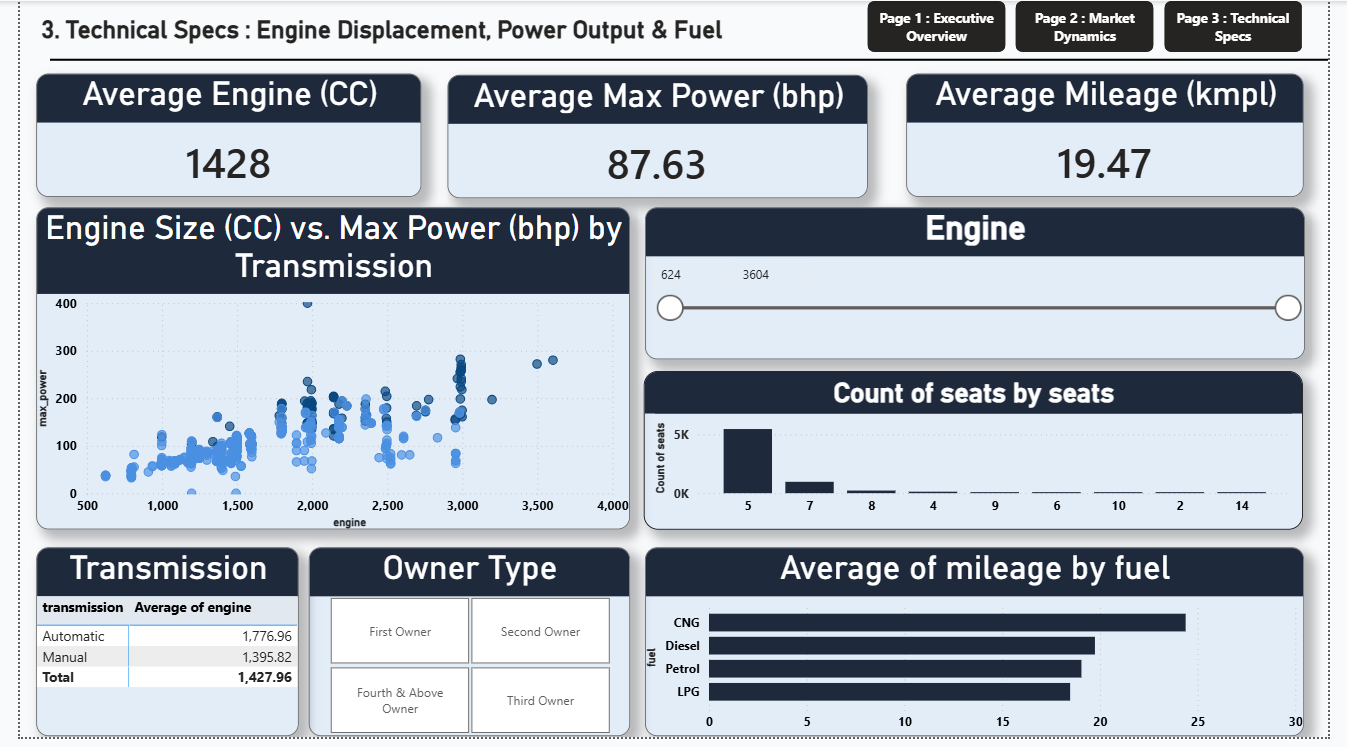

This screenshot's page, from the dashboard's own definition file:
{"tool":"powerbi","page":{"name":"Page 3 : Technical Specs","canvas":[1280,720],"ordinal":2},"visuals":[{"type":"cardVisual","title":"Average Engine (CC)","fields":{"Data":["_All Measures.Average Engine CC"]},"box":[15.9,70.9,376.6,121.1],"z":3000},{"type":"cardVisual","title":"Average Mileage (kmpl)","fields":{"Data":["_All Measures.Average Mileage"]},"box":[867,70.9,388.9,121.1],"z":4000},{"type":"cardVisual","title":"Average Max Power (bhp)","fields":{"Data":["_All Measures.Average Max_Power"]},"box":[418.2,72.1,410.9,121.1],"z":5000},{"type":"scatterChart","title":"Engine Size (CC) vs. Max Power (bhp) by Transmission","fields":{"Y":["car_analysis vw_powerbi_automotive_analytics.max_power"],"X":["car_analysis vw_powerbi_automotive_analytics.engine"],"Series":["car_analysis vw_powerbi_automotive_analytics.transmission"]},"box":[15.9,201.8,580.8,315.5],"z":7000},{"type":"pivotTable","title":"Transmission","fields":{"Rows":["car_analysis vw_powerbi_automotive_analytics.transmission"],"Values":["Avg(car_analysis vw_powerbi_automotive_analytics.engine)"]},"box":[15.9,534.4,256.8,184.6],"z":8000},{"type":"slicer","title":"Owner Type","fields":{"Values":["car_analysis vw_powerbi_automotive_analytics.owner"]},"box":[282.5,534.4,314.3,184.6],"z":9000},{"type":"slicer","title":"Engine","fields":{"Values":["car_analysis vw_powerbi_automotive_analytics.engine"]},"box":[611.4,201.8,645.7,149.2],"z":10000},{"type":"clusteredColumnChart","fields":{"Category":["car_analysis vw_powerbi_automotive_analytics.seats"],"Y":["CountNonNull(car_analysis vw_powerbi_automotive_analytics.seats)"]},"box":[610.2,362,644.4,155.3],"z":11000},{"type":"textbox","box":[15.9,8.6,700.7,42.8],"z":12000},{"type":"clusteredBarChart","fields":{"Category":["car_analysis vw_powerbi_automotive_analytics.fuel"],"Y":["Avg(car_analysis vw_powerbi_automotive_analytics.mileage)"]},"box":[611.4,534.4,644.4,184.6],"z":13000},{"type":"shape","title":"Page 1:","box":[29.3,51.4,1251,12.2],"z":13500},{"type":"pageNavigator","box":[829.1,0,428,50.1],"z":13501}]}

Visuals, with their boxes in screenshot pixels (x1, y1, x2, y2), scaled from the page's 1280x720 canvas onto the 1347x747 screenshot:
"Average Engine (CC)" cardVisual: {"left": 17, "top": 74, "right": 413, "bottom": 199}
"Average Mileage (kmpl)" cardVisual: {"left": 912, "top": 74, "right": 1322, "bottom": 199}
"Average Max Power (bhp)" cardVisual: {"left": 440, "top": 75, "right": 872, "bottom": 200}
"Engine Size (CC) vs. Max Power (bhp) by Transmission" scatterChart: {"left": 17, "top": 209, "right": 628, "bottom": 537}
"Transmission" pivotTable: {"left": 17, "top": 554, "right": 287, "bottom": 746}
"Owner Type" slicer: {"left": 297, "top": 554, "right": 628, "bottom": 746}
"Engine" slicer: {"left": 643, "top": 209, "right": 1323, "bottom": 364}
clusteredColumnChart - car_analysis vw_powerbi_automotive_analytics.seats x CountNonNull(car_analysis vw_powerbi_automotive_analytics.seats): {"left": 642, "top": 376, "right": 1320, "bottom": 537}
textbox: {"left": 17, "top": 9, "right": 754, "bottom": 53}
clusteredBarChart - car_analysis vw_powerbi_automotive_analytics.fuel x Avg(car_analysis vw_powerbi_automotive_analytics.mileage): {"left": 643, "top": 554, "right": 1322, "bottom": 746}
"Page 1:" shape: {"left": 31, "top": 53, "right": 1346, "bottom": 66}
pageNavigator: {"left": 872, "top": 0, "right": 1323, "bottom": 52}
